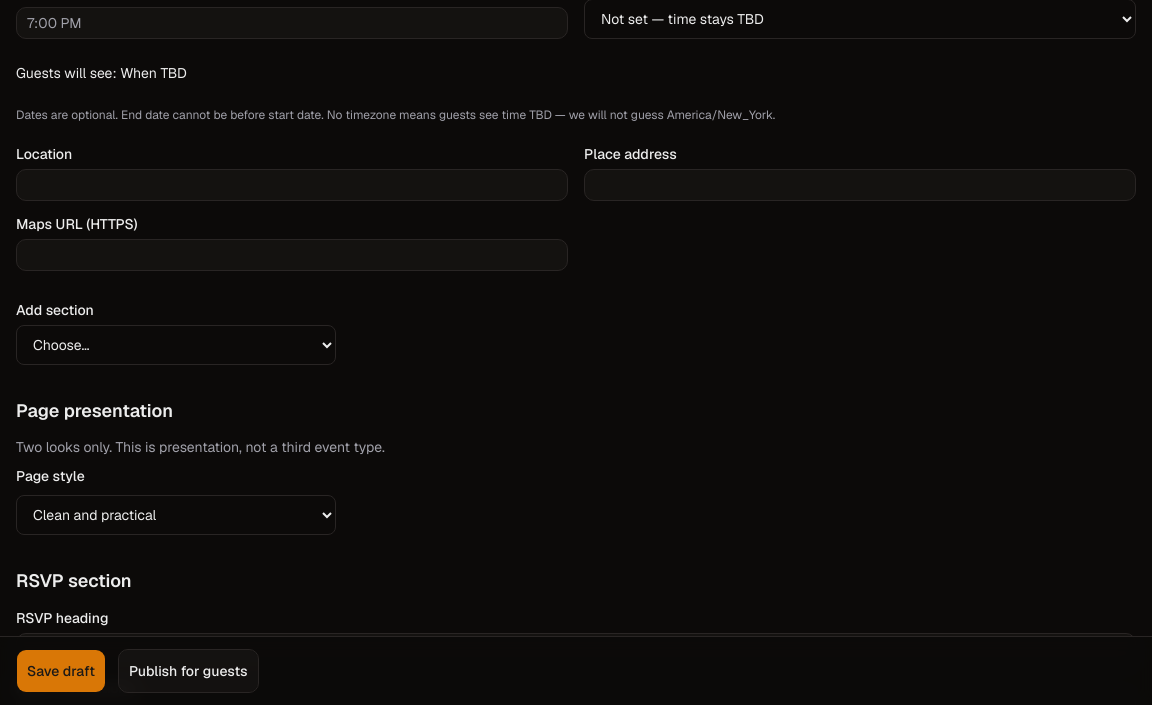
Scenario: HostEditor draft review safety › offers one Add section control for lodge, schedule, activities, and pack
The width and height of the screenshot is (1152, 705).
(page scrolled)
Select "Lodge" in the dropdown labelled "Add section" at (176, 345), box [16,325,336,365]
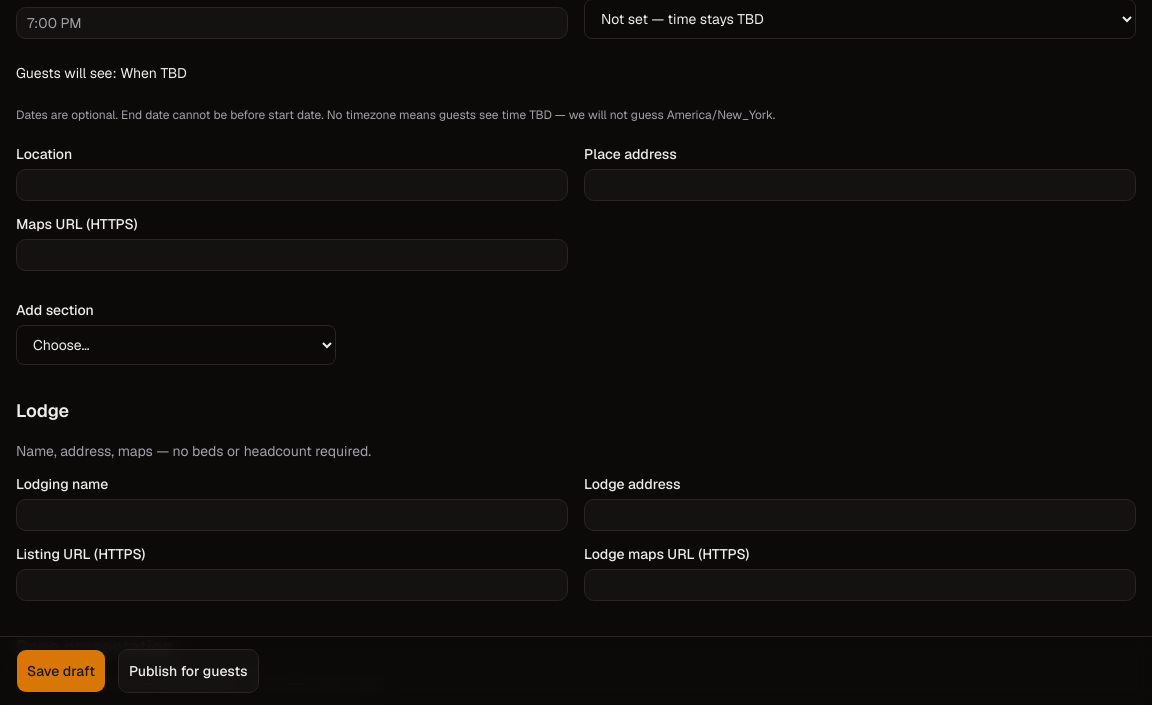
Expected: the field labelled "Lodging name" is shown, [16,499,568,531]
